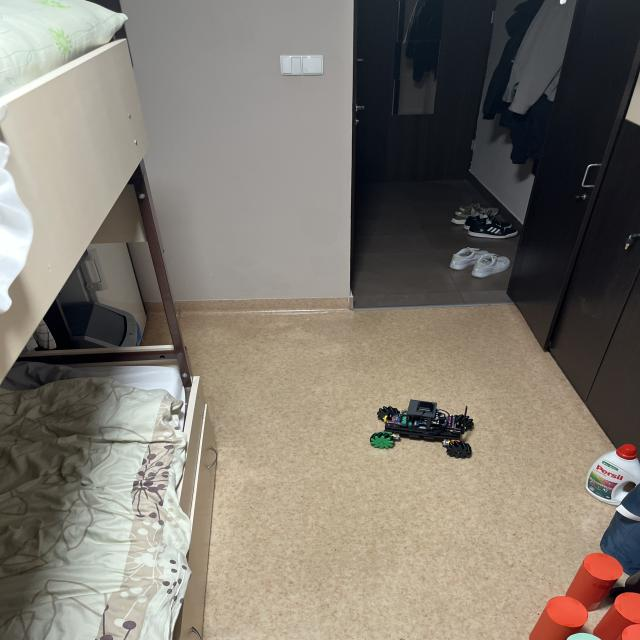robot: (370, 400, 474, 458)
